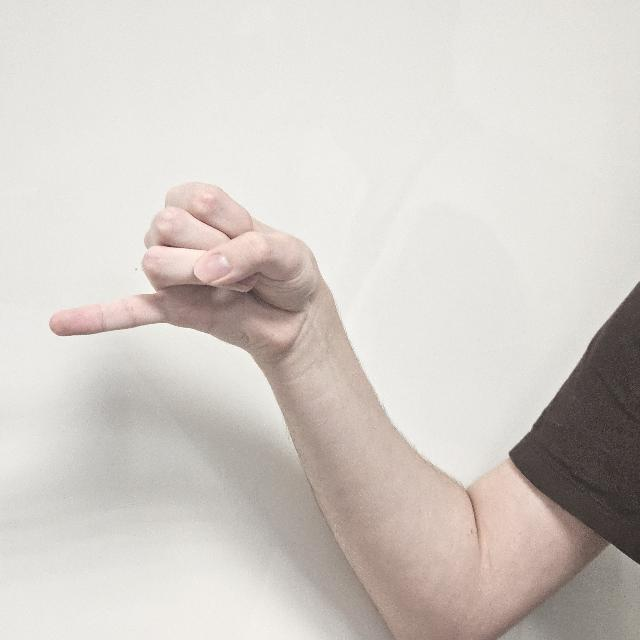Esquerda: (42, 153, 316, 401)
